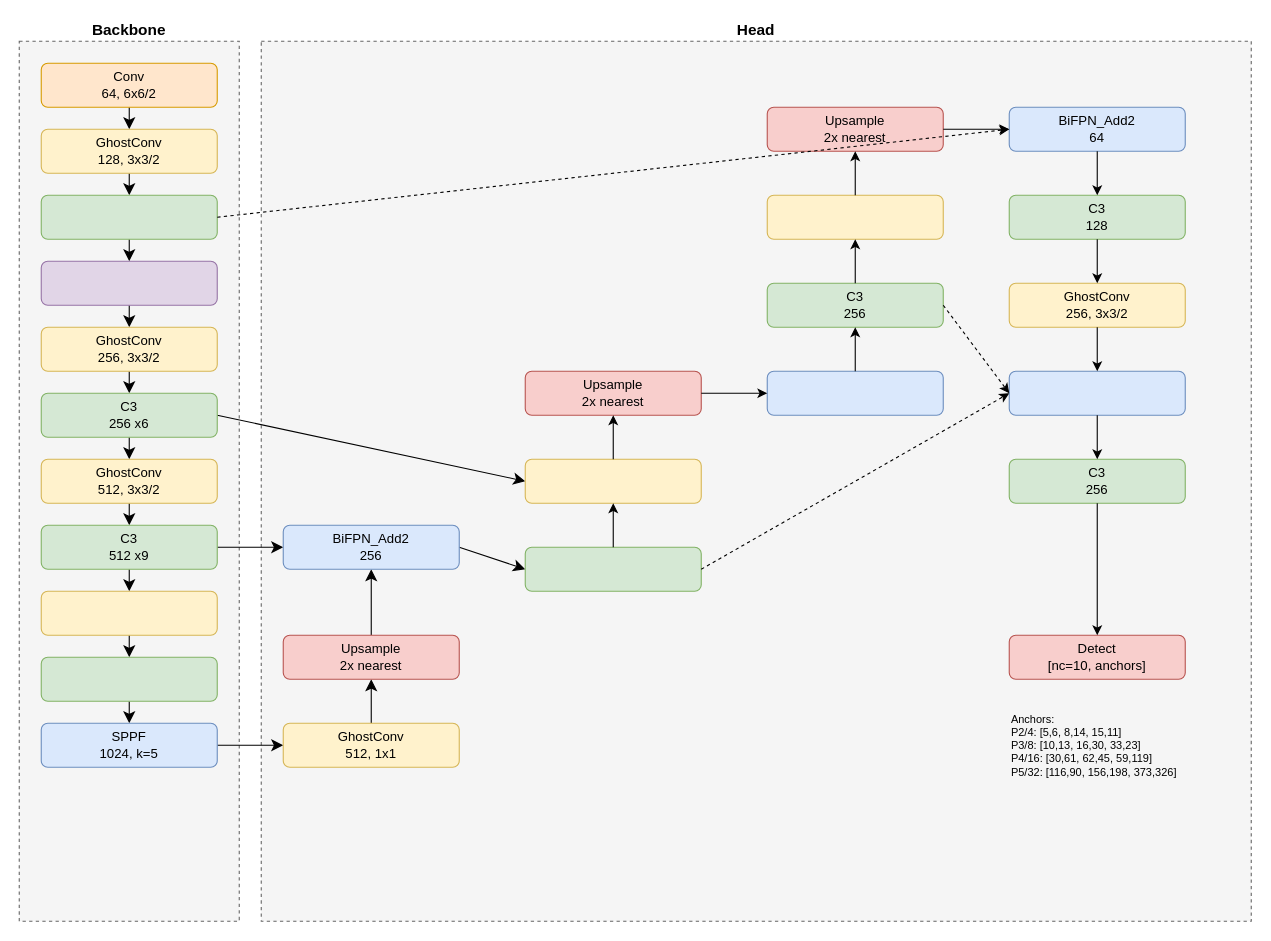
Some shapes in this 1271 by 941 pixel diagram are drawn without their labels. Here are the shapes that lost their labels. From the top down, the centre of each, then its label:
At [128,216]: "C3 128 x3".
At [854,216]: "GhostConv 128, 1x1".
At [128,282]: "CBAM 128".
At [854,392]: "BiFPN_Add2 128".
At [1096,392]: "BiFPN_Add3 128".
At [612,480]: "GhostConv 256, 1x1".
At [612,568]: "C3 512".
At [128,612]: "GhostConv 1024, 3x3/2".
At [128,678]: "C3 1024 x3".
